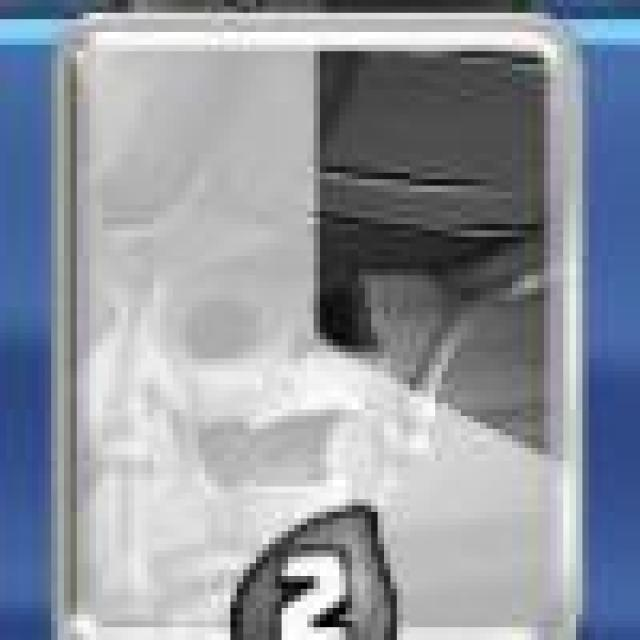Wall_Breakers: (62, 18, 586, 640)
